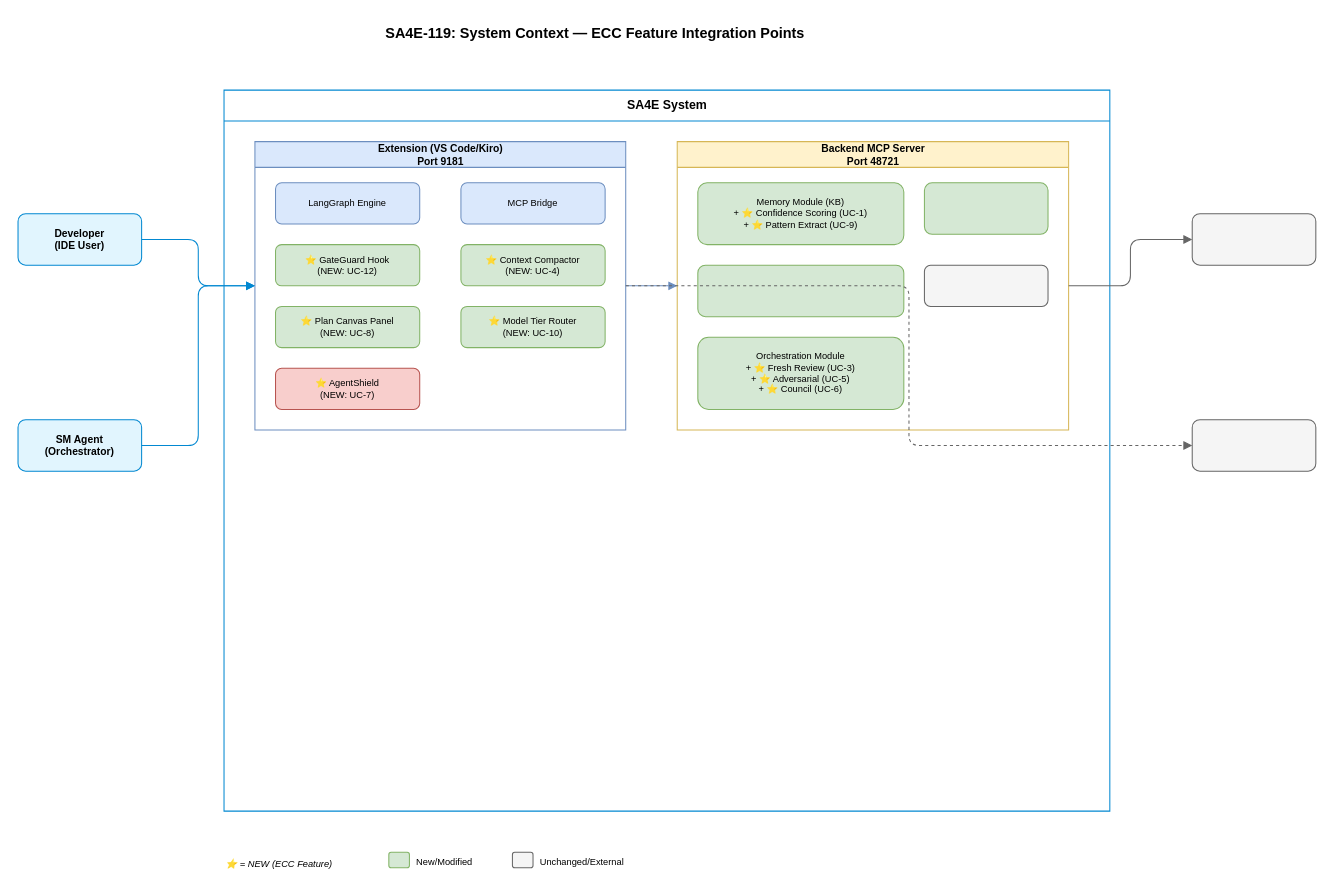
Some shapes in this 1334 by 890 pixel diagram are drawn without their labels. Here are the shapes that lost their labels. From the top down, the centre of each, then its label:
At pixel 985 208: "⭐ Skill Pack Registry (NEW: UC-2)".
At pixel 1253 239: "LLM Provider (Anthropic)".
At pixel 800 290: "CodeIntel Module + ⭐ Onboarding (UC-11)".
At pixel 985 285: "SQLite + Vec (Storage)".
At pixel 1253 445: "Jira (Atlassian)".
